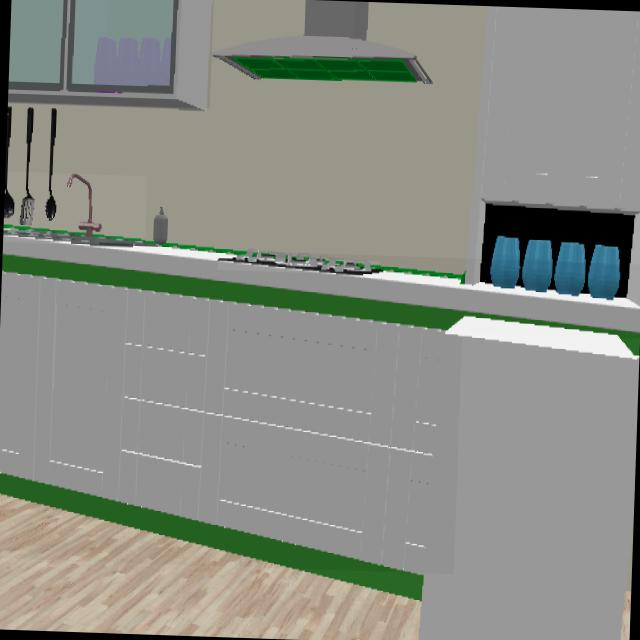cabinet: (0, 272, 461, 572), (7, 0, 213, 108)
countertop: (2, 247, 640, 336)
sink: (3, 174, 145, 244)
stove: (217, 256, 379, 274)
